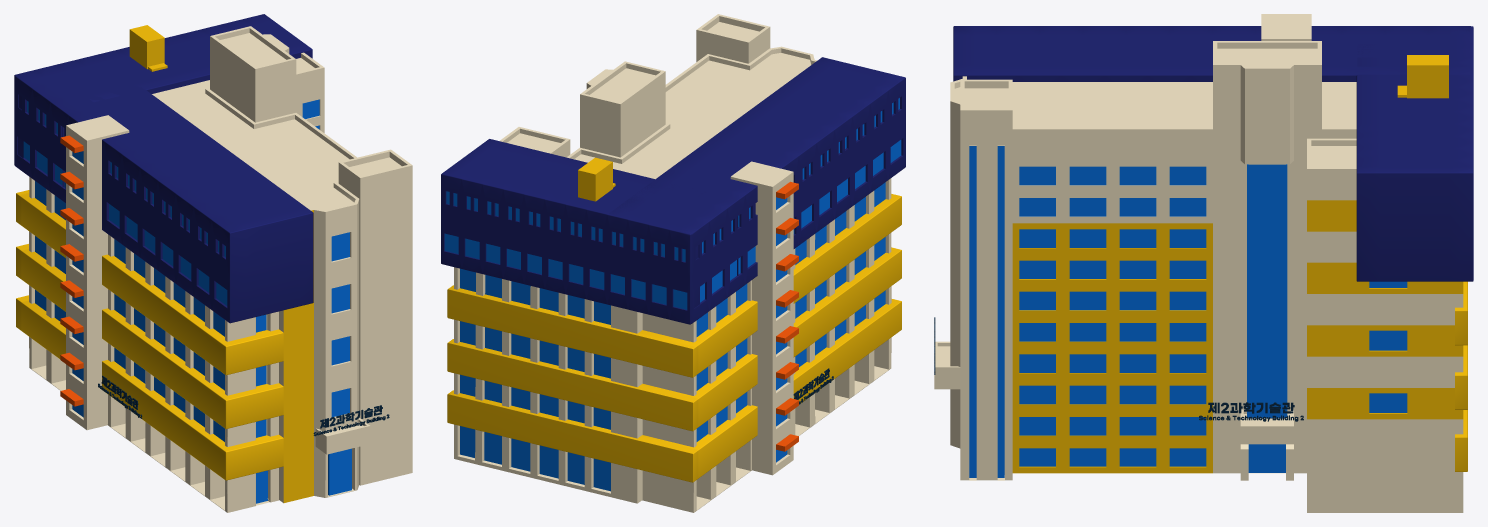
The model's file is 제2과학기술.fbx.
The picture shows the model from 3 angles, left to right: view 1: azimuth 30°, elevation 25°; view 2: azimuth 150°, elevation 25°; view 3: azimuth 270°, elevation 25°; orthographic projection. The views are drawn at different scales.
Parts seen in each view (by area): view 1: 제2과학기술관_3, Cube_147, Cube_148, Cube_149, Cube_150, Cube_151, Cube_152, Cube_2_2, Cube_153, Cube_28, Cube_155, Cube_8 (+3 smaller); view 2: Cube_147, 제2과학기술관_3, Cube_2_2, Cube_148, Cube_149, Cube_7, Cube_6, Cube_5, Cube_4, Cube_150, Cube_151, Cube_152 (+5 smaller); view 3: 제2과학기술관_3, Cube_29, Cube_2_2, Cube_147, Cube_113, Cube_2, Cube_31, Cube_8, Cube_149, Cube_1, Extrude_1_2, Cube_4 (+2 smaller).
Boxes of the visible parts, x1,y1,x2,y2 form: 제2과학기술관_3: (152,26,412,503); Cube_147: (14,55,313,323); Cube_148: (29,177,278,512); Cube_149: (60,115,129,430); Cube_150: (20,192,283,375); Cube_151: (19,249,283,428); Cube_152: (19,300,283,480); Cube_2_2: (14,14,312,186); Cube_153: (35,181,224,441); Cube_28: (328,232,351,495); Cube_155: (23,101,227,305); Cube_8: (129,25,164,69); Cube_147: (609,57,905,323); 제2과학기술관_3: (454,14,817,503); Cube_2_2: (441,139,738,324); Cube_148: (642,178,891,512); Cube_149: (730,161,798,475); Cube_7: (460,268,610,491); Cube_6: (447,390,698,482); Cube_5: (447,339,698,431); Cube_4: (447,285,698,377); Cube_150: (639,194,901,373); Cube_151: (641,247,901,428); Cube_152: (641,299,901,479); 제2과학기술관_3: (934,41,1463,512); Cube_29: (1019,166,1206,466); Cube_2_2: (1356,26,1473,281); Cube_147: (953,26,1470,81); Cube_113: (1247,164,1287,418); Cube_2: (969,146,1004,477); Cube_31: (1369,281,1407,412); Cube_8: (1407,55,1448,98); Cube_149: (1261,14,1311,40); Cube_1: (1248,444,1285,472); Extrude_1_2: (1208,402,1294,413); Cube_4: (1455,281,1467,345).
Bounding box in the file's own units: 634 × 754 × 896.
